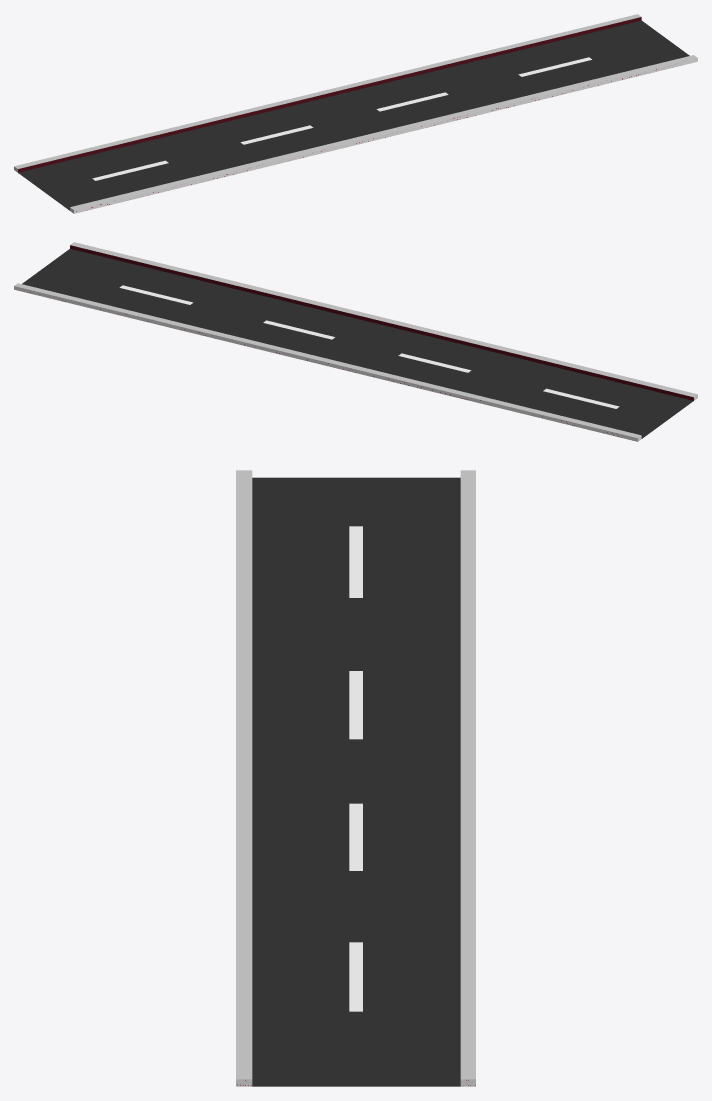
The model's file is RoadLeft_1.fbx.
3 views of the same model, one above another, from view 1: azimuth 30°, elevation 25°; view 2: azimuth 150°, elevation 25°; view 3: azimuth 270°, elevation 25° (orthographic). The views are drawn at different scales.
Parts seen in each view (by area): view 1: Plane.002; view 2: Plane.002; view 3: Plane.002.
Boxes of the visible parts, <box> form: Plane.002: <box>14,14,697,213</box>; Plane.002: <box>14,242,697,441</box>; Plane.002: <box>236,470,475,1086</box>.
Bounding box in the file's own units: 1200 × 6.71 × 200.
Materials: 1 (1 with a texture image).
